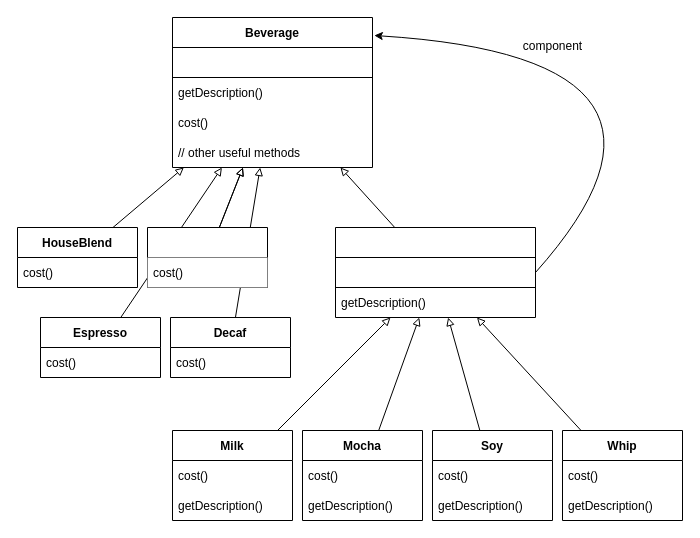
Image size: 700x538. Some labels were removed from this diagram. The shapes that lost their labels are listed below. From the top down, each one's box as (x1, y1, x2, y2) in pixels, then its label:
(172, 46, 372, 78): description
(146, 226, 268, 288): DarkRoast
(334, 256, 536, 288): Beverage beverage
(334, 226, 536, 318): ComponentDecorator
